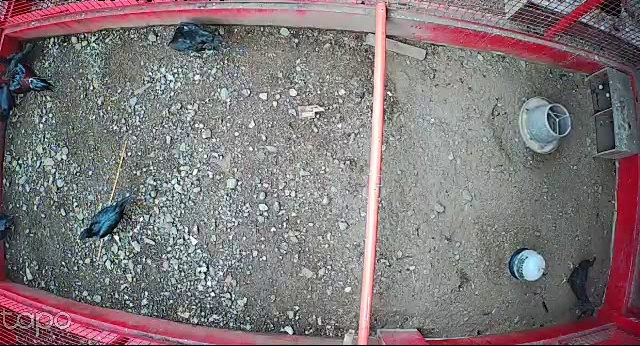Chicken: (77, 193, 132, 244), (164, 19, 232, 59), (557, 249, 597, 310)
Drinker: (508, 247, 546, 281)
Feeder: (519, 95, 572, 154)
Rooster: (0, 60, 65, 96)
